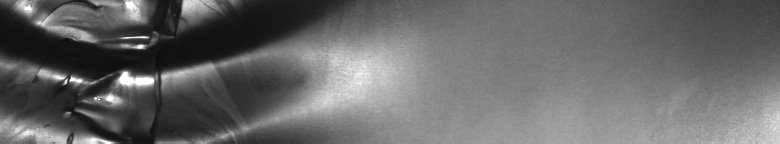ke: (4, 4, 269, 136)
